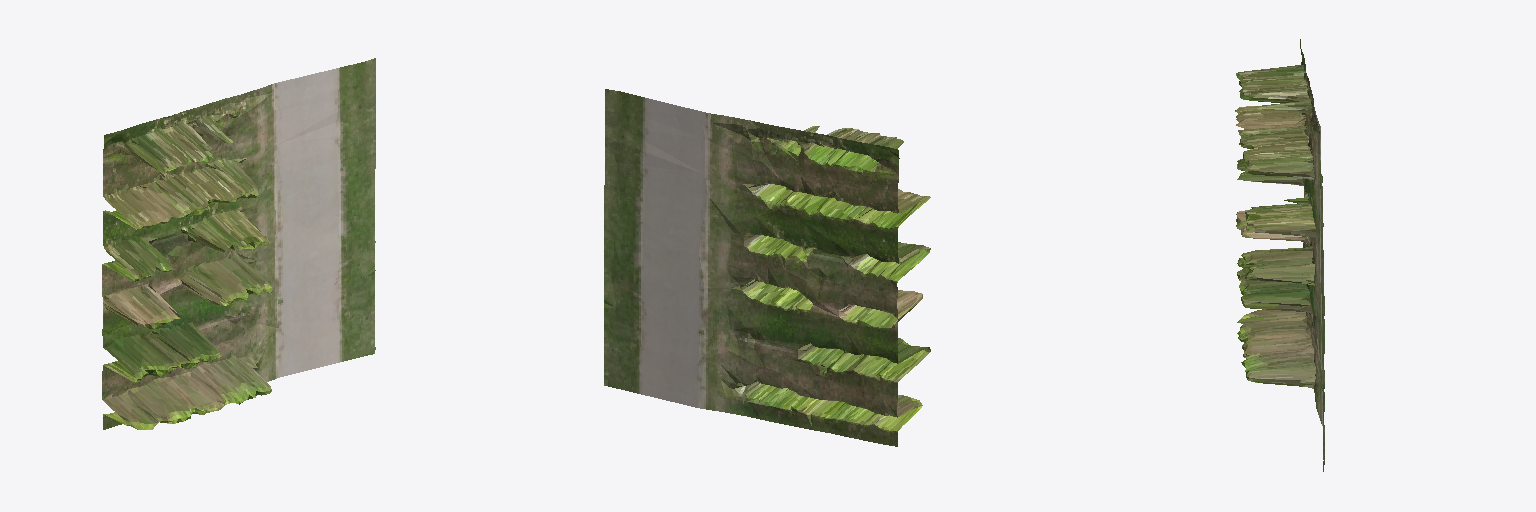
3 renders of one model, left to right at view 1: azimuth 30°, elevation 25°; view 2: azimuth 150°, elevation 25°; view 3: azimuth 270°, elevation 25°, orthographic.
Visible parts, largest first — view 1: grp1; view 2: grp1; view 3: grp1.
Part boxes in pixels (x1,y1,x2,y2): grp1: (102, 58, 375, 429); grp1: (604, 89, 930, 446); grp1: (1235, 39, 1324, 471).
Size of the model in its own units: 10 by 10 by 2.77.
1 materials, 1 textured.